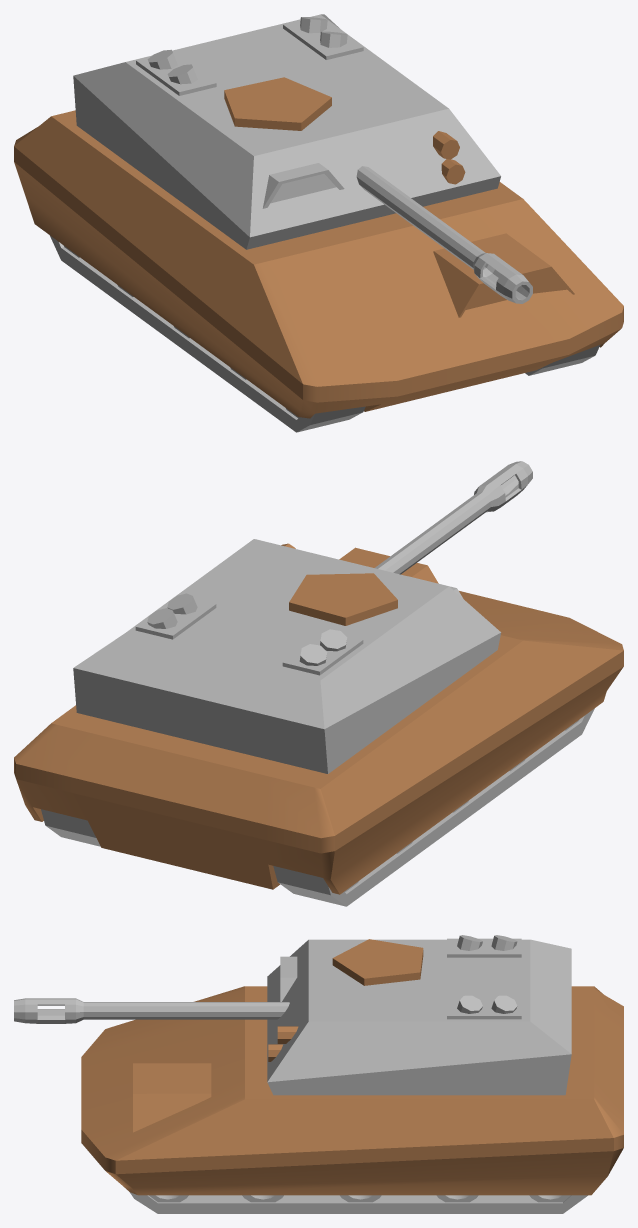
Rendered from heavy_tank.glb.
3 views of the same model, one above another, from view 1: azimuth 30°, elevation 25°; view 2: azimuth 150°, elevation 25°; view 3: azimuth 270°, elevation 25° (orthographic). The views are drawn at different scales.
Parts seen in each view (by area): view 1: Body.001, Turret.001, Tracks, Barrol, Optic, Hatch, AntiRocket, Periscope, Sensore; view 2: Body.001, Turret.001, Tracks, Hatch, Barrol, AntiRocket, Optic; view 3: Body.001, Turret.001, Tracks, Barrol, Optic, AntiRocket, Hatch, Periscope, Sensore.
Part boxes in pixels (left/top/right/bottom): Body.001: left=14, top=110, right=623, bottom=418; Turret.001: left=73, top=14, right=500, bottom=249; Tracks: left=50, top=235, right=600, bottom=432; Barrol: left=356, top=166, right=532, bottom=303; Optic: left=433, top=233, right=574, bottom=317; Hatch: left=224, top=77, right=331, bottom=130; AntiRocket: left=136, top=15, right=363, bottom=95; Periscope: left=262, top=163, right=344, bottom=208; Sensore: left=433, top=131, right=465, bottom=184; Body.001: left=14, top=591, right=623, bottom=894; Turret.001: left=73, top=539, right=501, bottom=773; Tracks: left=41, top=708, right=594, bottom=906; Hatch: left=289, top=573, right=397, bottom=625; Barrol: left=374, top=461, right=532, bottom=574; AntiRocket: left=135, top=593, right=363, bottom=675; Optic: left=339, top=547, right=438, bottom=583; Body.001: left=81, top=986, right=623, bottom=1195; Turret.001: left=267, top=939, right=571, bottom=1095; Tracks: left=129, top=1192, right=587, bottom=1213; Barrol: left=14, top=998, right=289, bottom=1023; Optic: left=133, top=1063, right=211, bottom=1132; AntiRocket: left=447, top=935, right=521, bottom=1019; Hatch: left=332, top=939, right=423, bottom=985; Periscope: left=280, top=956, right=297, bottom=1001; Sensore: left=268, top=1026, right=298, bottom=1061.
Bounding box in the file's own units: 0.4684 × 0.3028 × 0.8949.
